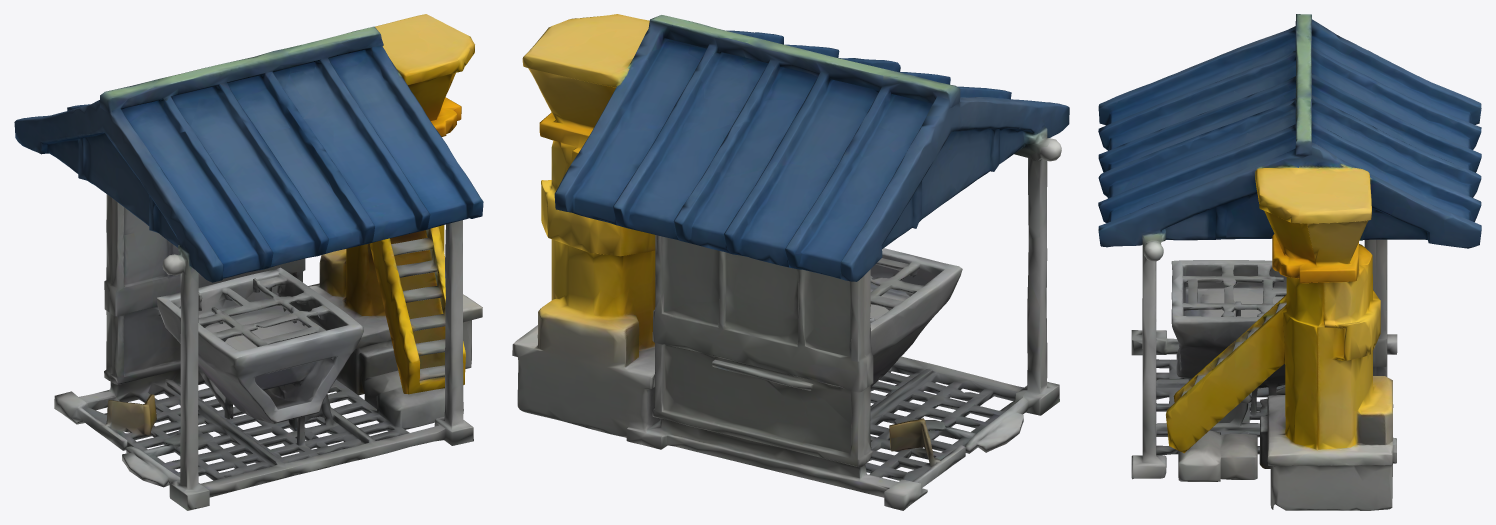
The model's file is recebimento.glb.
3 renders of one model, left to right at view 1: azimuth 30°, elevation 25°; view 2: azimuth 150°, elevation 25°; view 3: azimuth 270°, elevation 25°, orthographic. The views are drawn at different scales.
Visible parts, largest first — view 1: tripo_node_ad71da0b-79a6-44e7-9fe9-2b67199f06d8; view 2: tripo_node_ad71da0b-79a6-44e7-9fe9-2b67199f06d8; view 3: tripo_node_ad71da0b-79a6-44e7-9fe9-2b67199f06d8.
Boxes of the visible parts, x1,y1,x2,y2 form: tripo_node_ad71da0b-79a6-44e7-9fe9-2b67199f06d8: (14,14,483,510); tripo_node_ad71da0b-79a6-44e7-9fe9-2b67199f06d8: (512,14,1069,510); tripo_node_ad71da0b-79a6-44e7-9fe9-2b67199f06d8: (1098,14,1481,510).
Size of the model in its own units: 1 by 0.8626 by 0.8927.
1 material, 1 textured.
